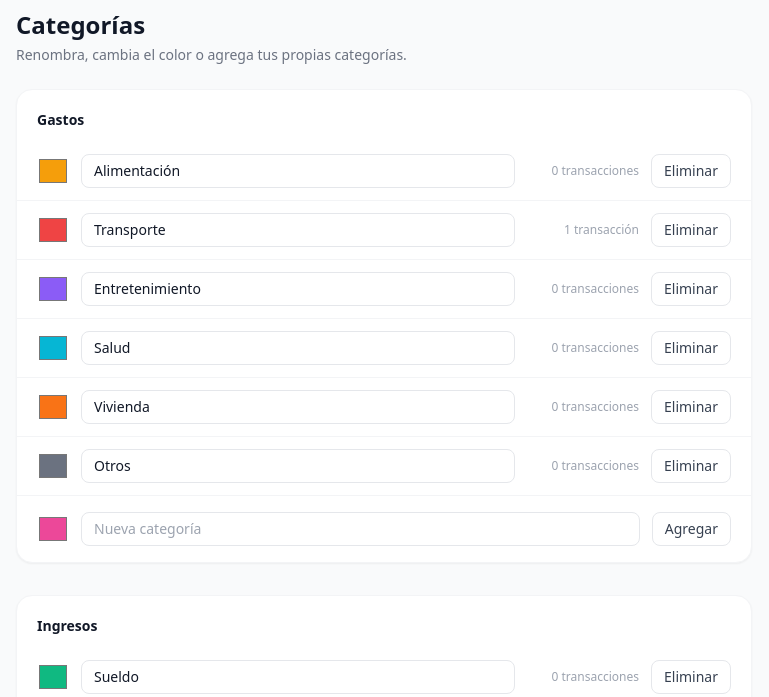
CategoriesComponent › should reject a duplicate name and keep the old one
Replace the text in the field named "Nombre de Transporte" with "salud" at x=298, y=230, box left=81, top=213, right=515, bottom=247
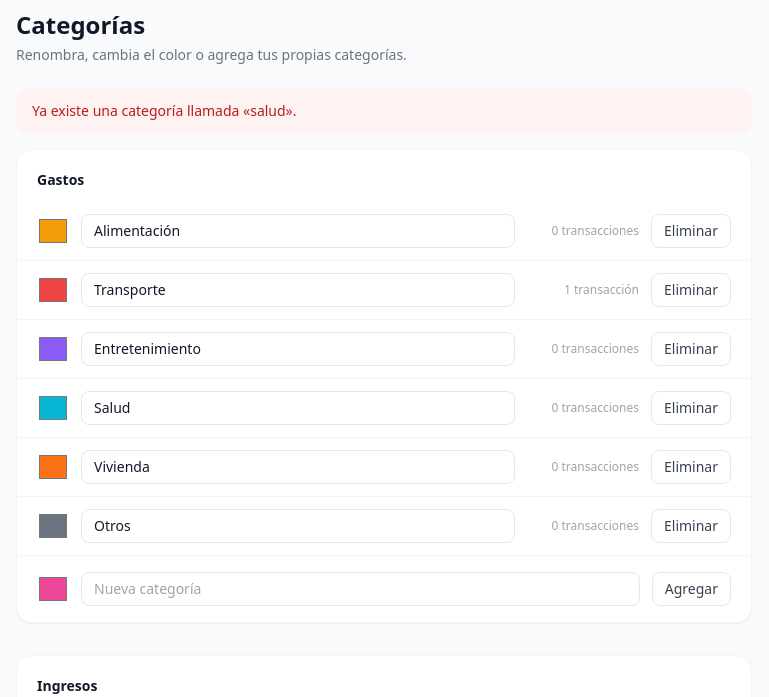
Expected: the text "Ya existe una categoría llamada «salud»." is shown, left=16, top=89, right=752, bottom=133
